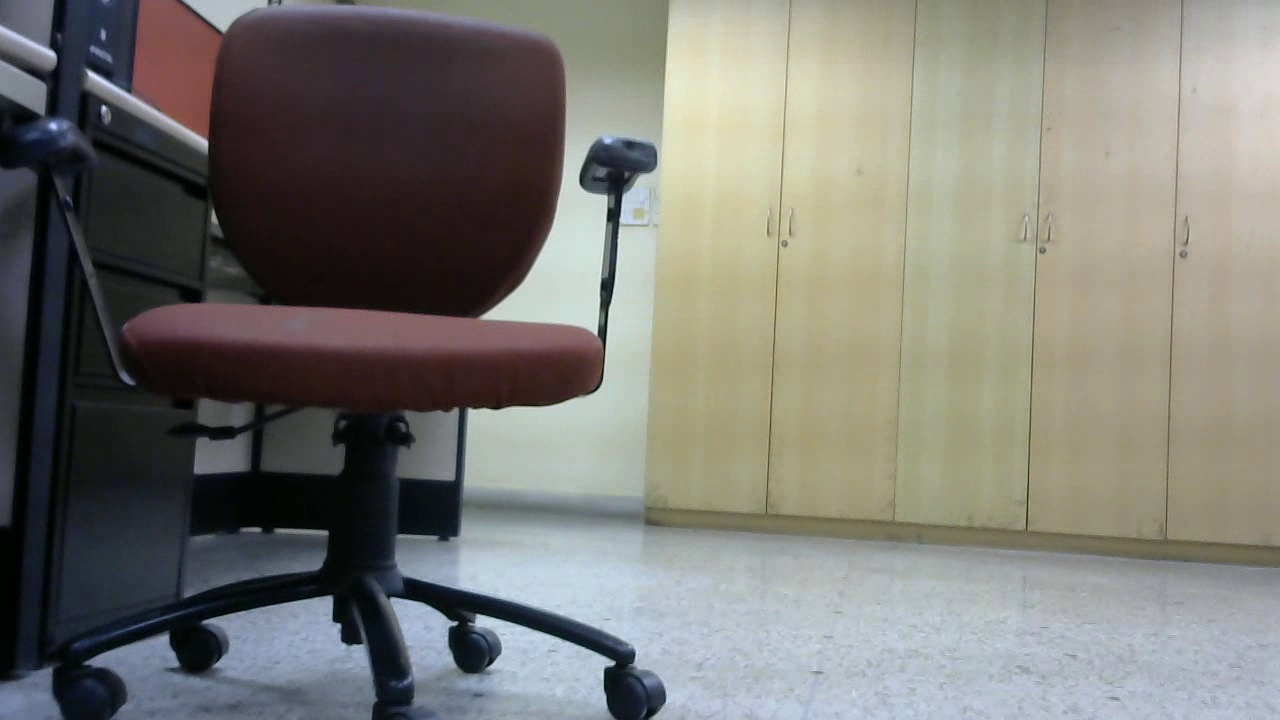chair: (19, 5, 659, 720)
